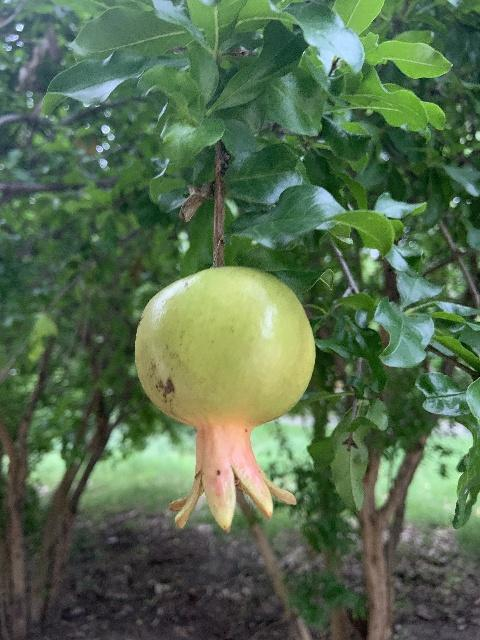mid-growth: (133, 264, 316, 533)
